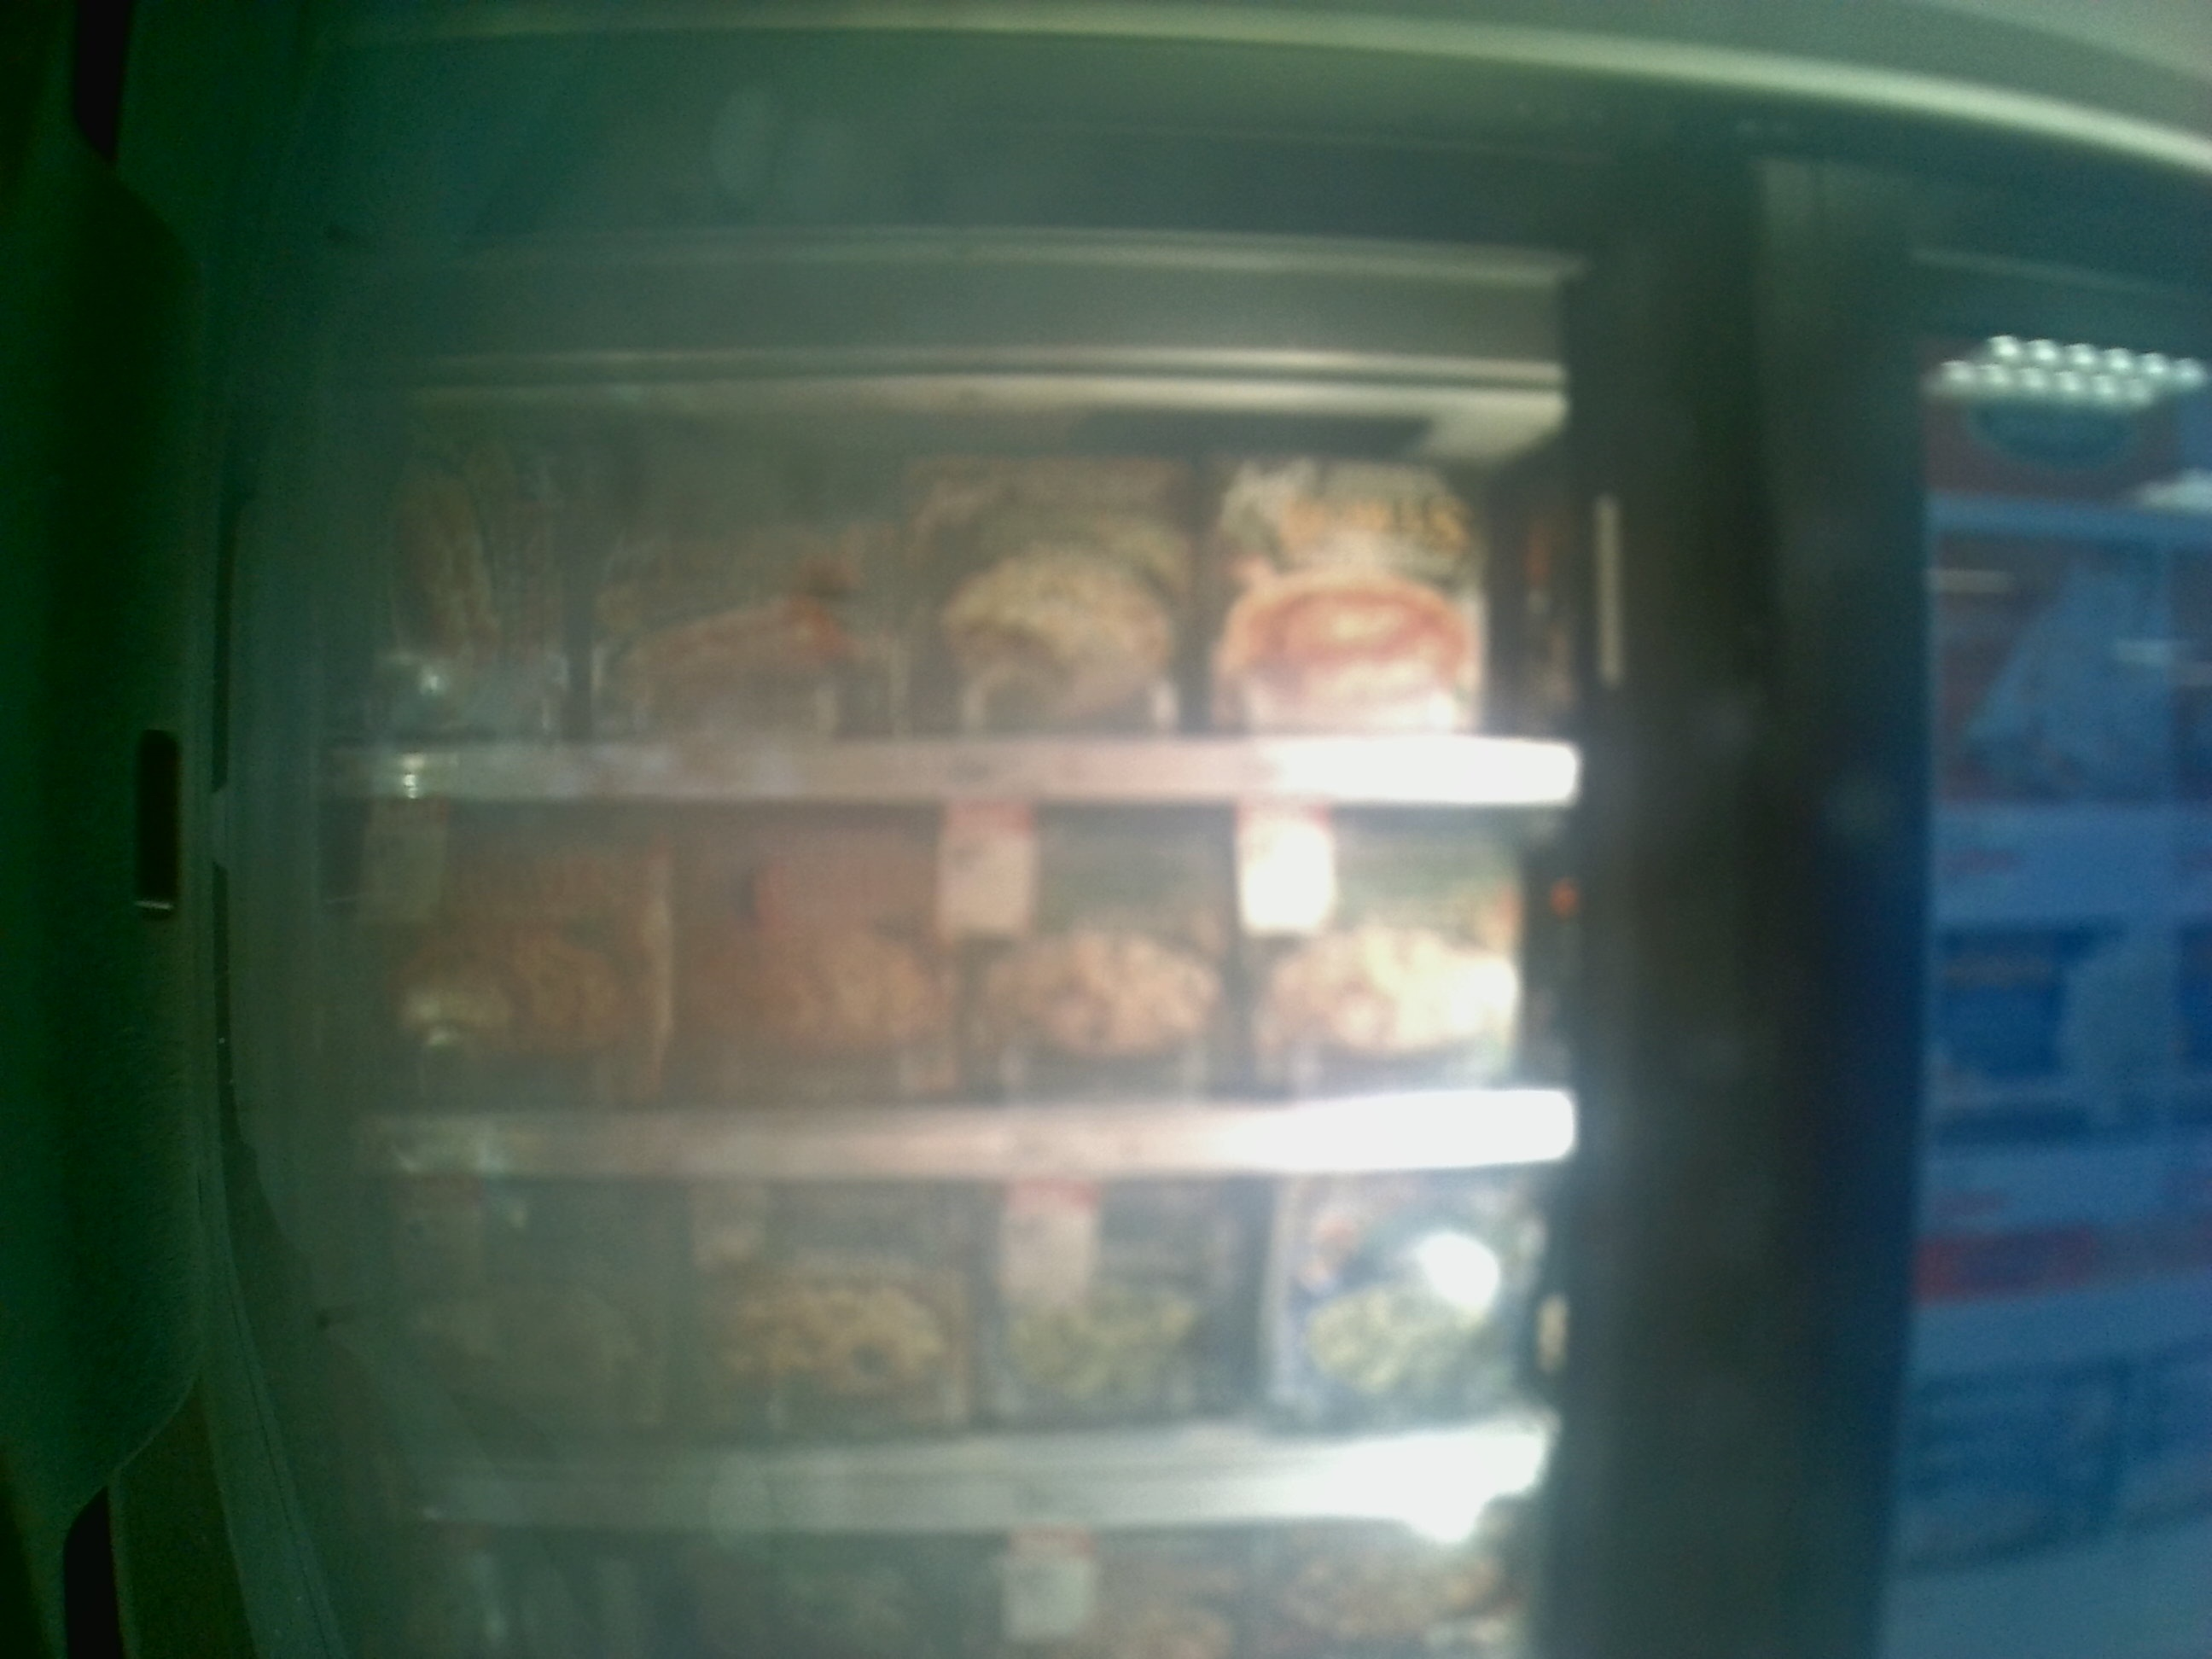frozen-food-shelf: (212, 396, 1599, 807), (212, 814, 1601, 1178), (211, 1183, 1606, 1535)
